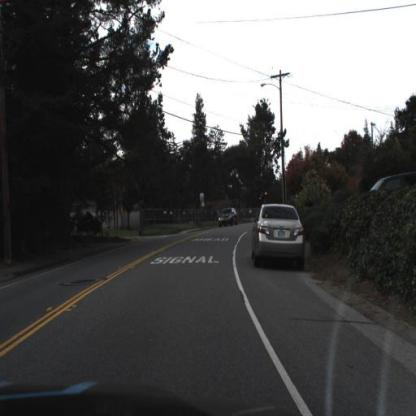car: (250, 200, 306, 264), (218, 203, 240, 227)
